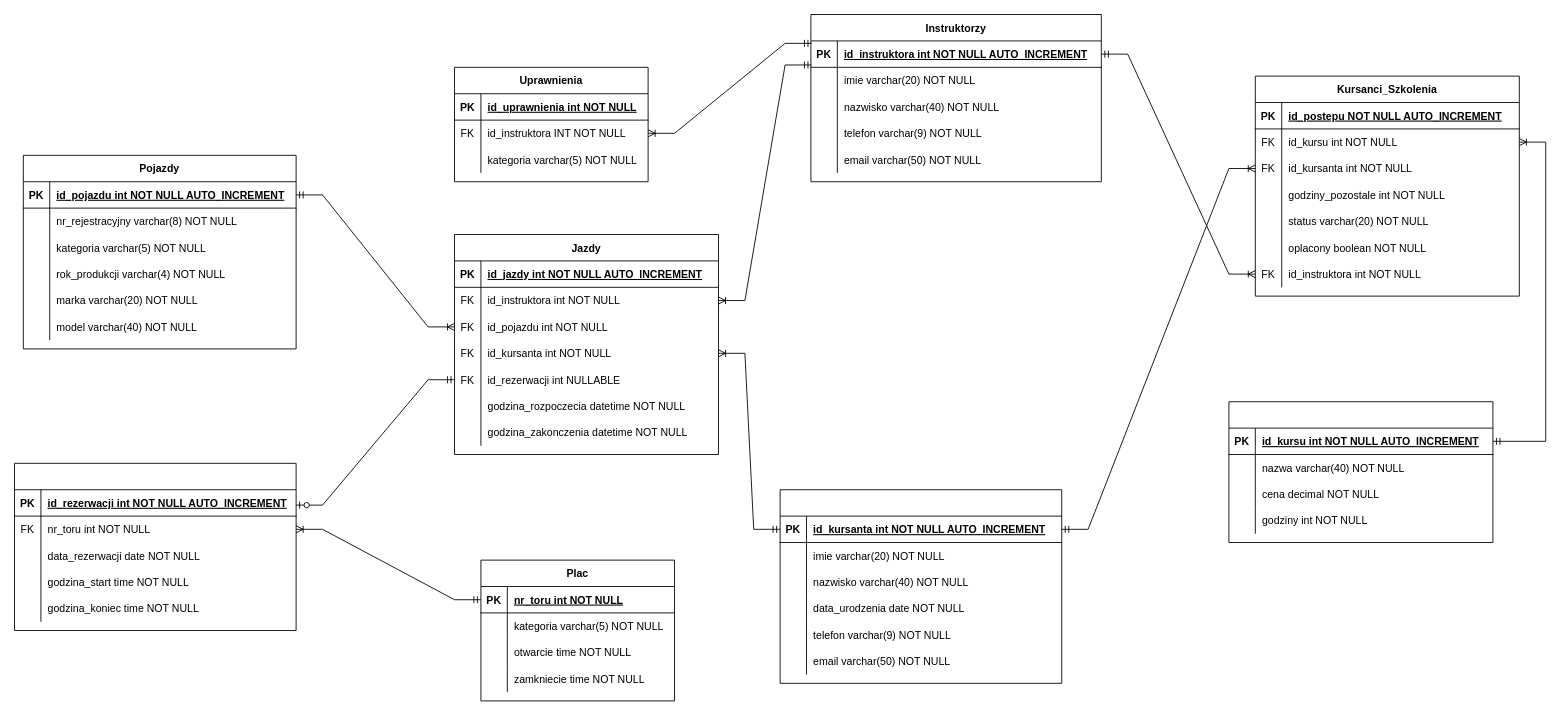
This 1560x715 diagram has some shape labels left out. Each missing label, with the box of its shape:
Kursanci: (779, 489, 1062, 683)
Rezerwacje_Plac: (14, 462, 296, 631)
Szkolenia: (1228, 401, 1493, 543)
